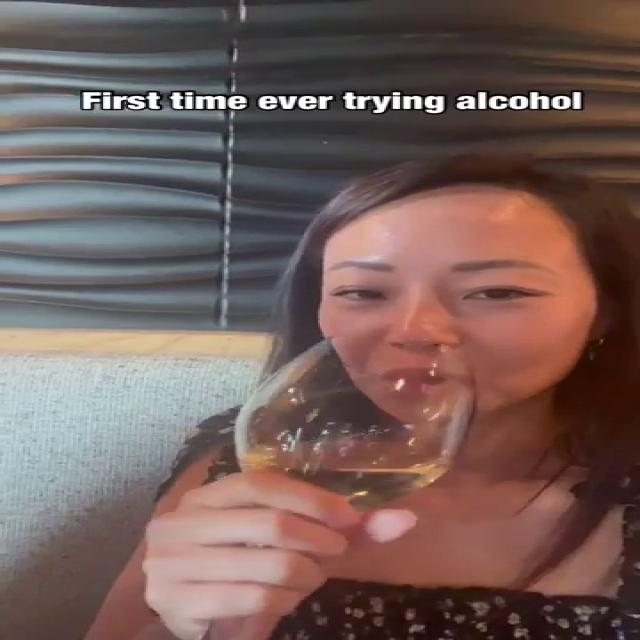Cup: (190, 336, 476, 639)
Hand: (130, 463, 420, 639)
Mouth: (364, 359, 492, 393)
